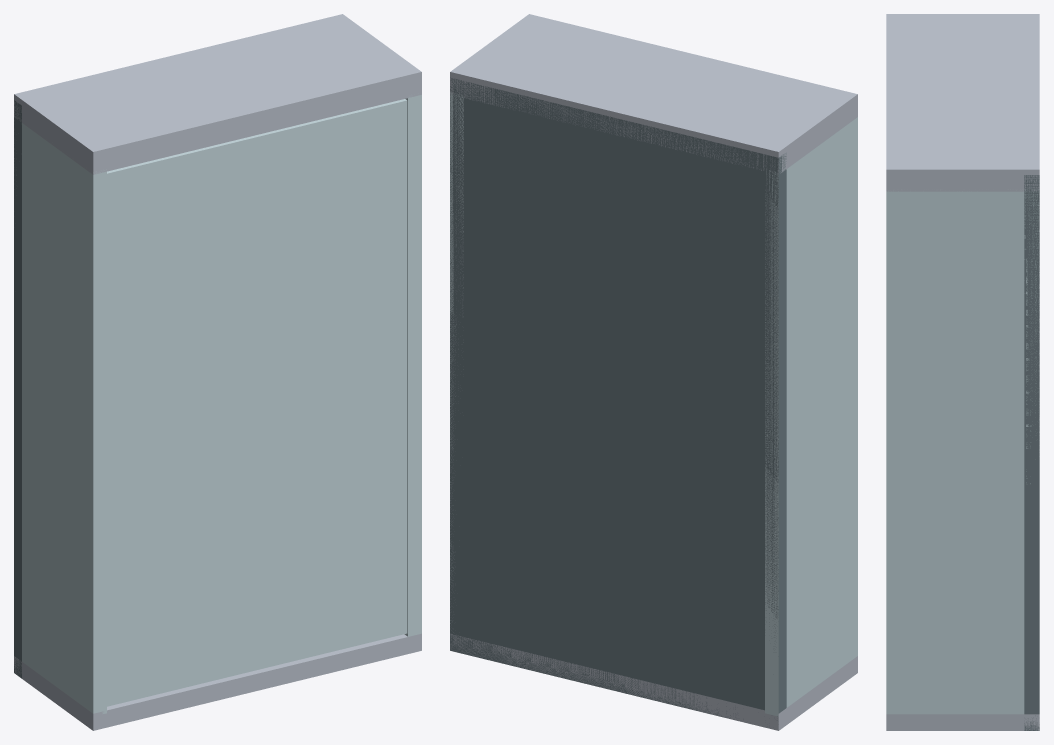
File: prop_vitrine.glb
3 renders of one model, left to right at view 1: azimuth 30°, elevation 25°; view 2: azimuth 150°, elevation 25°; view 3: azimuth 270°, elevation 25°, orthographic. The views are drawn at different scales.
Parts seen in each view (by area): view 1: v_front, v_side_l, v_top, v_bottom, v_side_r, v_back; view 2: v_back, v_side_l, v_top, v_bottom, v_side_r; view 3: v_side_r, v_top, v_back, v_bottom.
Part boxes in pixels (bbox=[...]): v_front: bbox=[107, 99, 407, 706]; v_side_l: bbox=[14, 120, 106, 713]; v_top: bbox=[14, 14, 421, 174]; v_bottom: bbox=[14, 633, 421, 730]; v_side_r: bbox=[404, 95, 421, 636]; v_back: bbox=[14, 100, 21, 678]; v_back: bbox=[450, 77, 786, 721]; v_side_l: bbox=[765, 117, 857, 716]; v_top: bbox=[450, 14, 857, 174]; v_bottom: bbox=[450, 633, 857, 730]; v_side_r: bbox=[450, 92, 463, 632]; v_side_r: bbox=[886, 189, 1039, 714]; v_top: bbox=[886, 14, 1039, 191]; v_back: bbox=[1024, 175, 1039, 730]; v_bottom: bbox=[886, 714, 1039, 730].
Bounding box in the file's own units: 1.2 × 2.02 × 0.5.
